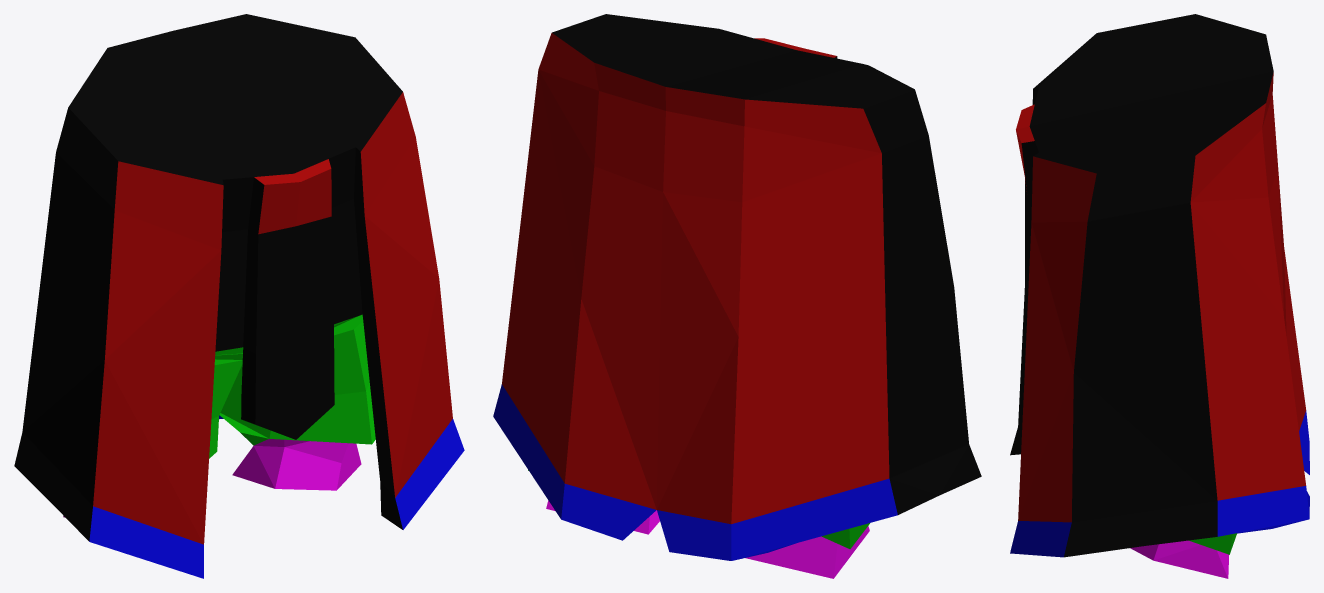
Rendered from Chr_Hips_Male_Static_12.fbx.
3 renders of one model, left to right at view 1: azimuth 30°, elevation 25°; view 2: azimuth 150°, elevation 25°; view 3: azimuth 270°, elevation 25°, orthographic. The views are drawn at different scales.
Visible parts, largest first — view 1: Chr_Hips_Male_12; view 2: Chr_Hips_Male_12; view 3: Chr_Hips_Male_12.
Part boxes in pixels (x1,y1,x2,y2): Chr_Hips_Male_12: [14, 14, 464, 578]; Chr_Hips_Male_12: [493, 14, 981, 578]; Chr_Hips_Male_12: [1010, 14, 1309, 578].
Size of the model in its own units: 49.47 by 55.44 by 33.88.
